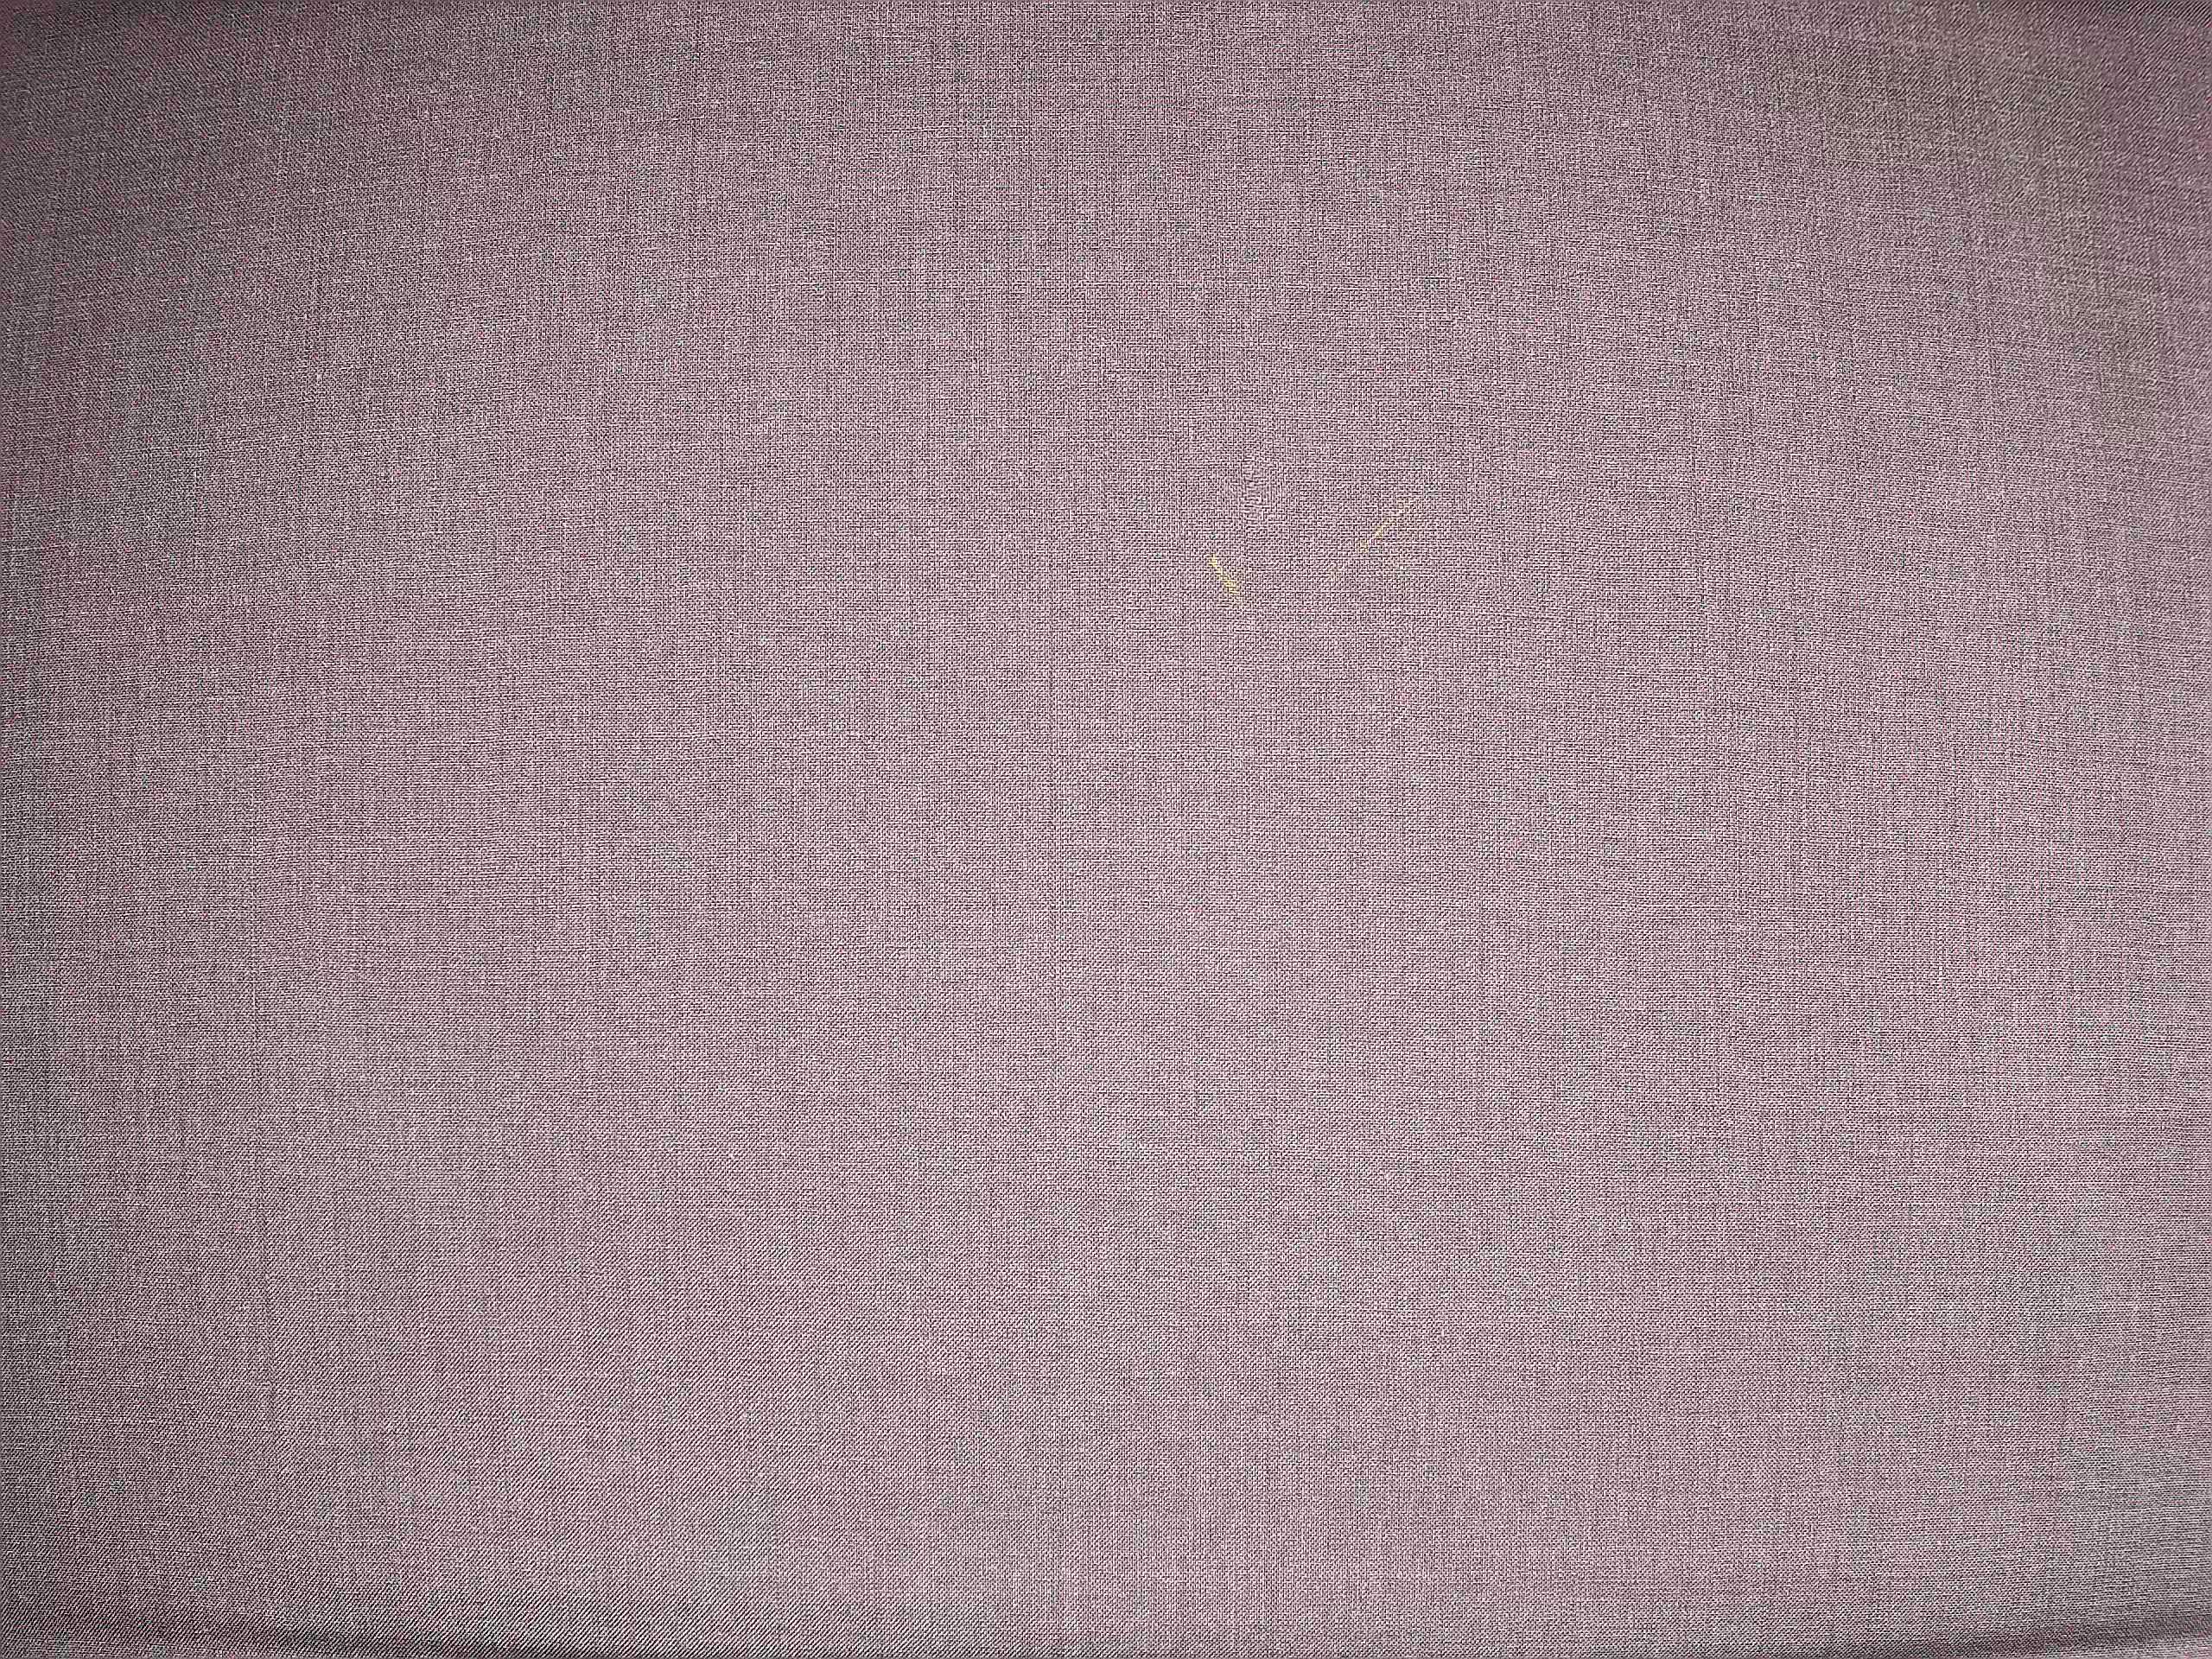thin-spinning: (1214, 436, 1298, 575)
